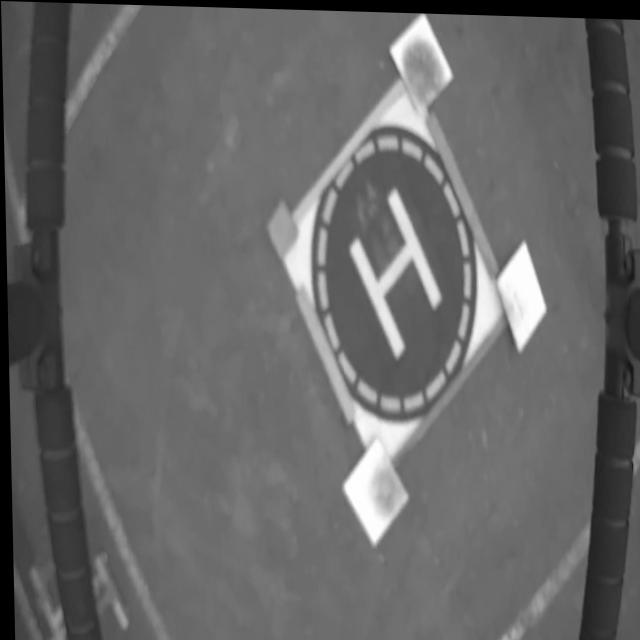Helipad: (346, 182, 440, 354)
